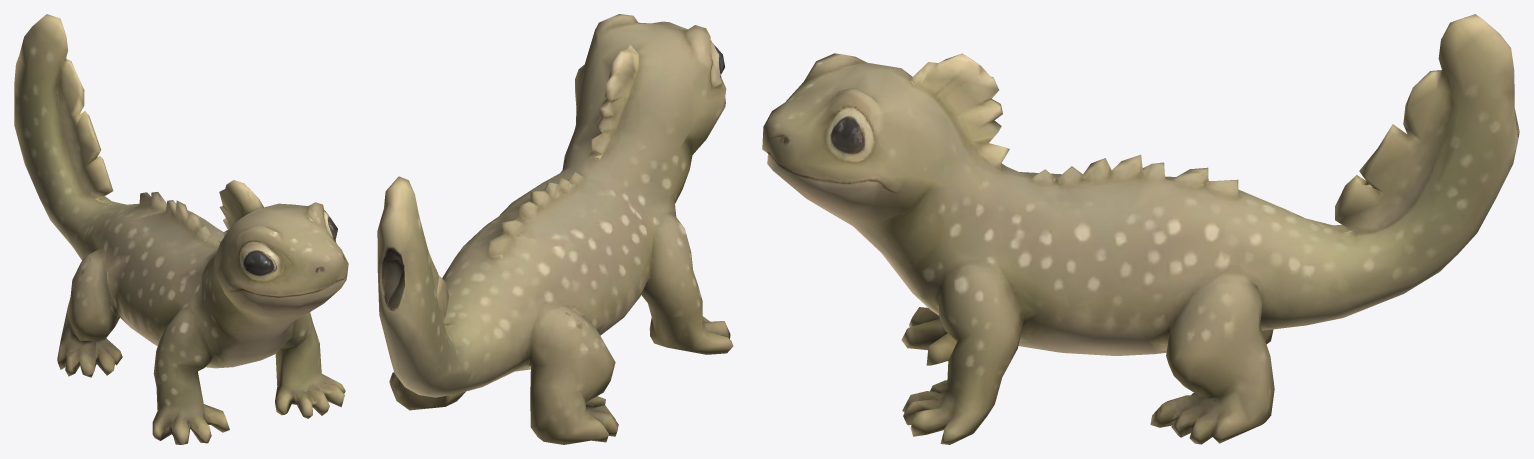
Rendered from turtle-mt-sailfin-lizard.glb.
3 views of the same model, side by side, from view 1: azimuth 30°, elevation 25°; view 2: azimuth 150°, elevation 25°; view 3: azimuth 270°, elevation 25° (orthographic). The views are drawn at different scales.
Parts seen in each view (by area): view 1: turtle-sailfin-lizard_Look; view 2: turtle-sailfin-lizard_Look; view 3: turtle-sailfin-lizard_Look.
Part boxes in pixels (<box>): turtle-sailfin-lizard_Look: <box>14,14,348,444</box>; turtle-sailfin-lizard_Look: <box>377,14,733,444</box>; turtle-sailfin-lizard_Look: <box>762,14,1519,444</box>.
Bounding box in the file's own units: 0.0451 × 0.0599 × 0.1123.
Materials: 1 (1 with a texture image).
